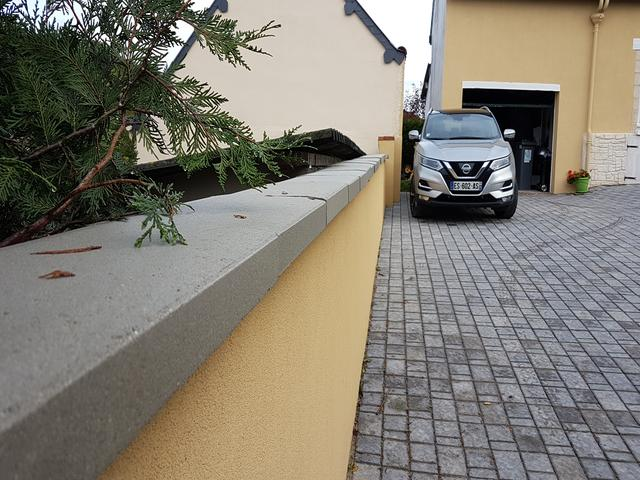Quashquai: (443, 175, 487, 195)
